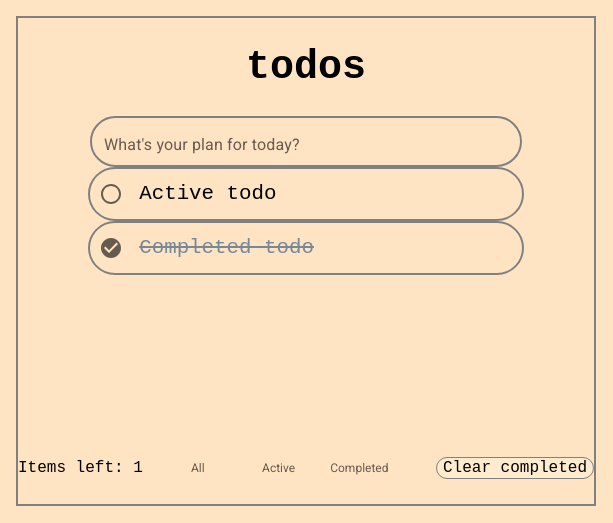
Test: App tests › should remove Completed todo items when Clear button is pressed
This screenshot has width=613, height=523.
Click the button "Clear completed": click(515, 468) [436, 457, 594, 479]
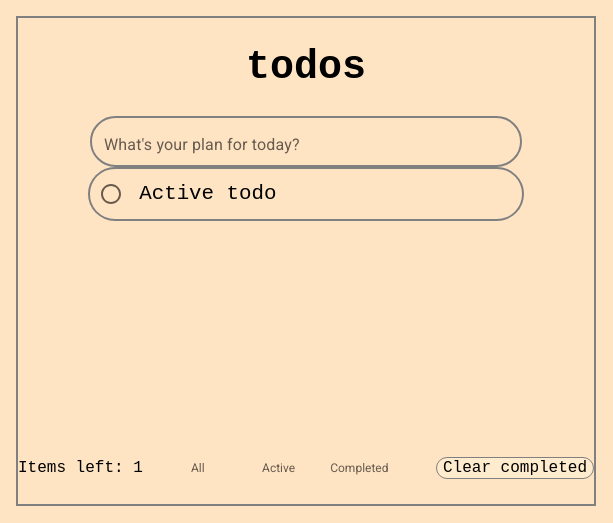
Check: the text "Active todo" is shown, box [139, 182, 276, 205]
Check: the text "Completed todo" is gone
